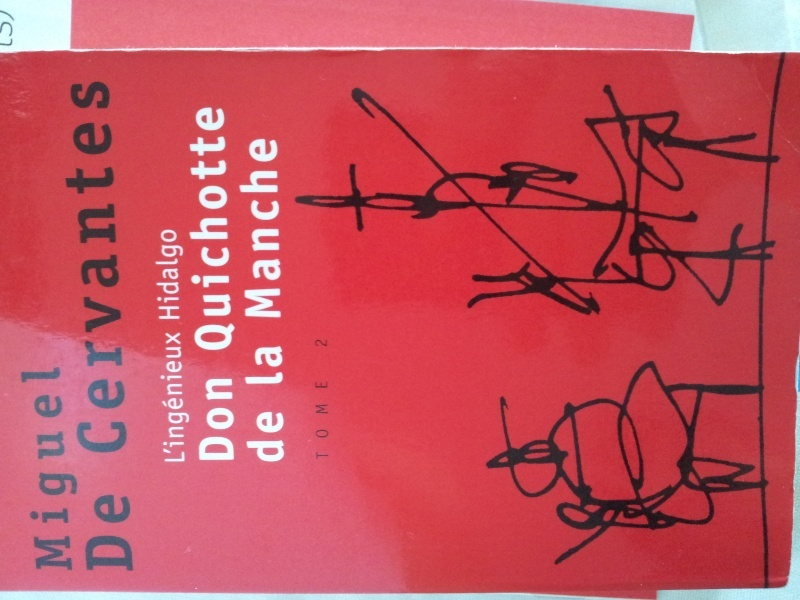text: (113, 79, 129, 455), (65, 79, 80, 455), (81, 79, 96, 455), (97, 79, 112, 455), (193, 104, 208, 356), (209, 104, 224, 356), (225, 104, 238, 356), (33, 361, 48, 574), (49, 361, 64, 574), (65, 361, 80, 574), (18, 361, 32, 574), (241, 130, 256, 321), (257, 130, 272, 321), (161, 329, 176, 465), (177, 329, 192, 465), (273, 130, 282, 321), (161, 226, 176, 322), (209, 376, 224, 462), (81, 361, 87, 574), (97, 493, 112, 573), (113, 493, 128, 573), (61, 79, 64, 455), (83, 493, 96, 573), (241, 337, 256, 401), (257, 337, 272, 401), (273, 337, 288, 401), (321, 377, 332, 462), (257, 408, 272, 466), (273, 408, 288, 466), (198, 376, 208, 462), (225, 376, 235, 462), (189, 104, 192, 356), (177, 226, 184, 322), (313, 377, 320, 462), (246, 408, 256, 466), (154, 226, 160, 322), (129, 493, 134, 573), (238, 130, 240, 321), (193, 329, 195, 465), (289, 337, 293, 401), (159, 329, 160, 465), (321, 336, 331, 349), (315, 336, 320, 349)
